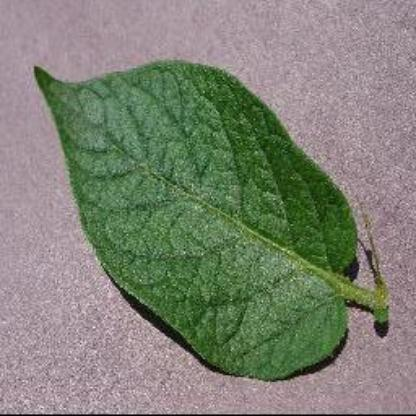Healthy-plant: (33, 41, 401, 377)
